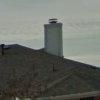Chimney: (35, 12, 77, 59)
